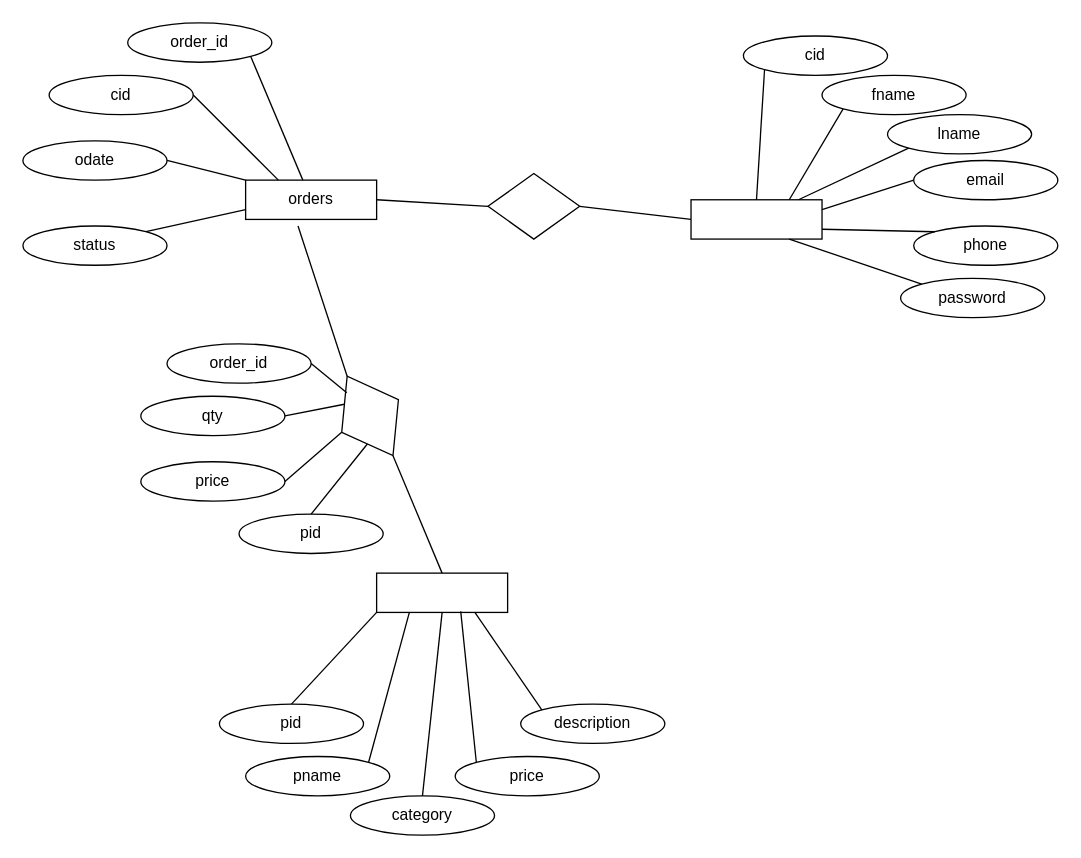
Image size: 1081x858. Some labels were removed from this diagram. The shapes that lost their labels are listed below. From the top down, each one's centre as x and y in pixels, then its label:
At point 533,205: "make".
At point 756,218: "client".
At point 369,415: "include".
At point 441,592: "product".
